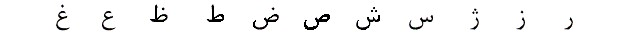character: (292, 2, 333, 36), (245, 1, 282, 38), (402, 4, 443, 36), (201, 1, 236, 38), (91, 1, 122, 38), (352, 5, 386, 38), (462, 2, 492, 35), (47, 1, 74, 37), (510, 1, 535, 38), (559, 1, 584, 38), (146, 1, 174, 34)
